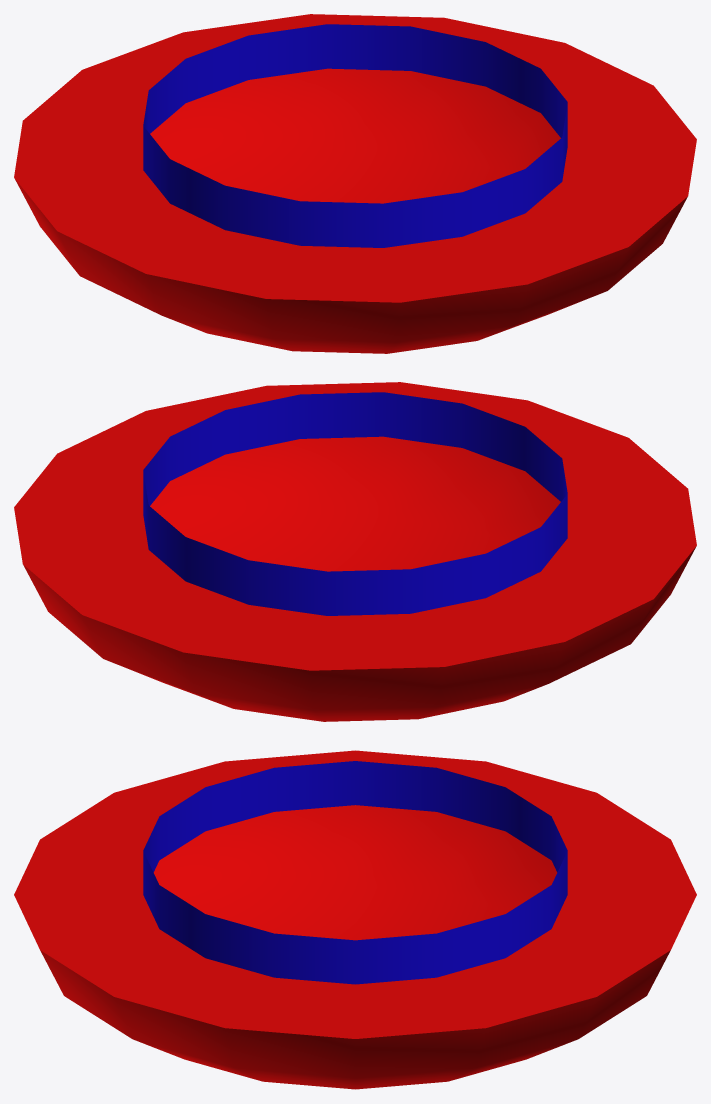
File: entrance_light.FBX
3 views of the same model, one above another, from view 1: azimuth 30°, elevation 25°; view 2: azimuth 150°, elevation 25°; view 3: azimuth 270°, elevation 25° (orthographic).
Parts seen in each view (by area): view 1: Sphere001; view 2: Sphere001; view 3: Sphere001.
Boxes of the visible parts, box(x1,y1,x2,y2) form: Sphere001: box(14, 14, 696, 353); Sphere001: box(14, 382, 696, 721); Sphere001: box(14, 750, 696, 1089).
Size of the model in its own units: 0.6 by 0.6 by 0.1698.
